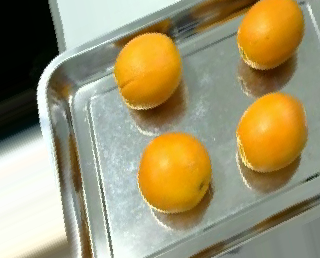Orange: (136, 132, 211, 213), (235, 92, 309, 173), (113, 31, 183, 110), (236, 1, 306, 71)
